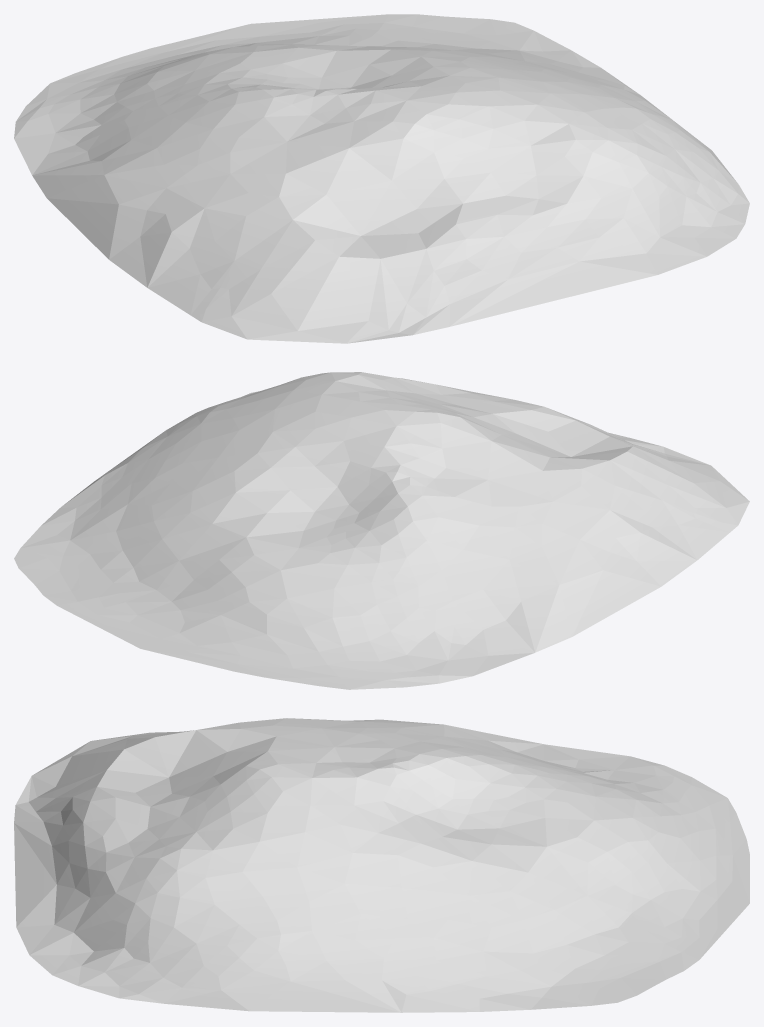
Rendered from Hill_12.glb.
3 views of the same model, one above another, from view 1: azimuth 30°, elevation 25°; view 2: azimuth 150°, elevation 25°; view 3: azimuth 270°, elevation 25° (orthographic). The views are drawn at different scales.
Visible parts, largest first — view 1: Hill_12; view 2: Hill_12; view 3: Hill_12.
Boxes of the visible parts, bbox=[...] form: Hill_12: bbox=[14, 14, 749, 343]; Hill_12: bbox=[14, 372, 749, 689]; Hill_12: bbox=[14, 718, 749, 1012].
Bounding box in the file's own units: 57.28 × 9.24 × 62.98.
1 material, 1 textured.
